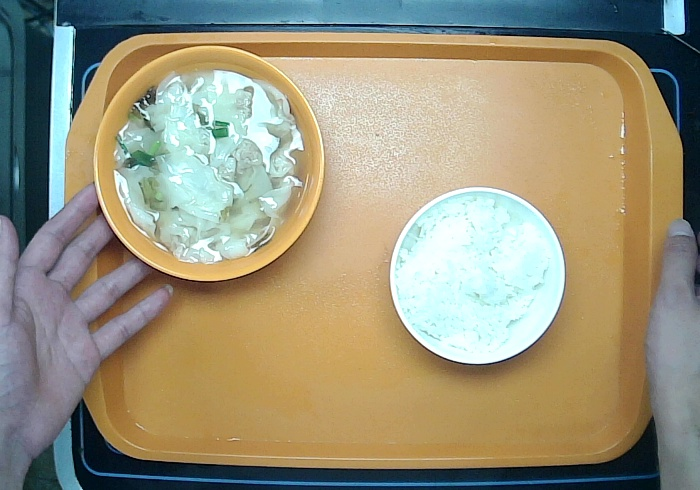NLDX-Fan_Wan: (386, 178, 573, 369)
NLDX-Hun_Tun_Wan: (80, 38, 335, 286)
